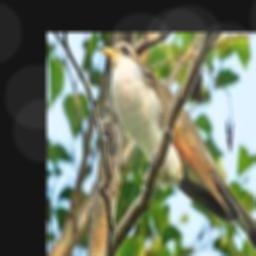Cuckoo: (98, 41, 256, 256)
